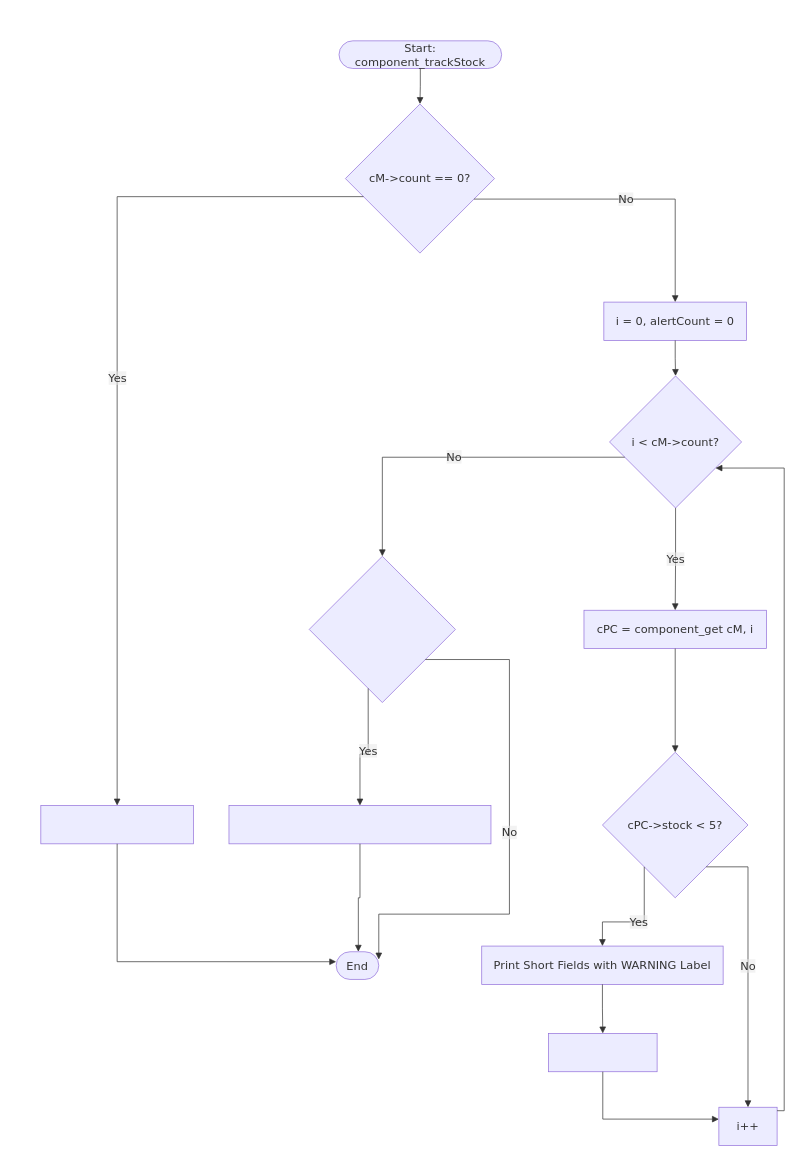
Image size: 803x1158. Some labels were removed from this diagram. Each missing label, with the box of its shape:
alertCount == 0?: (308, 556, 455, 703)
alertCount++: (548, 1033, 657, 1072)
Print: All components are in safe stock level: (228, 805, 491, 844)
Print: No data to track: (40, 805, 193, 844)
